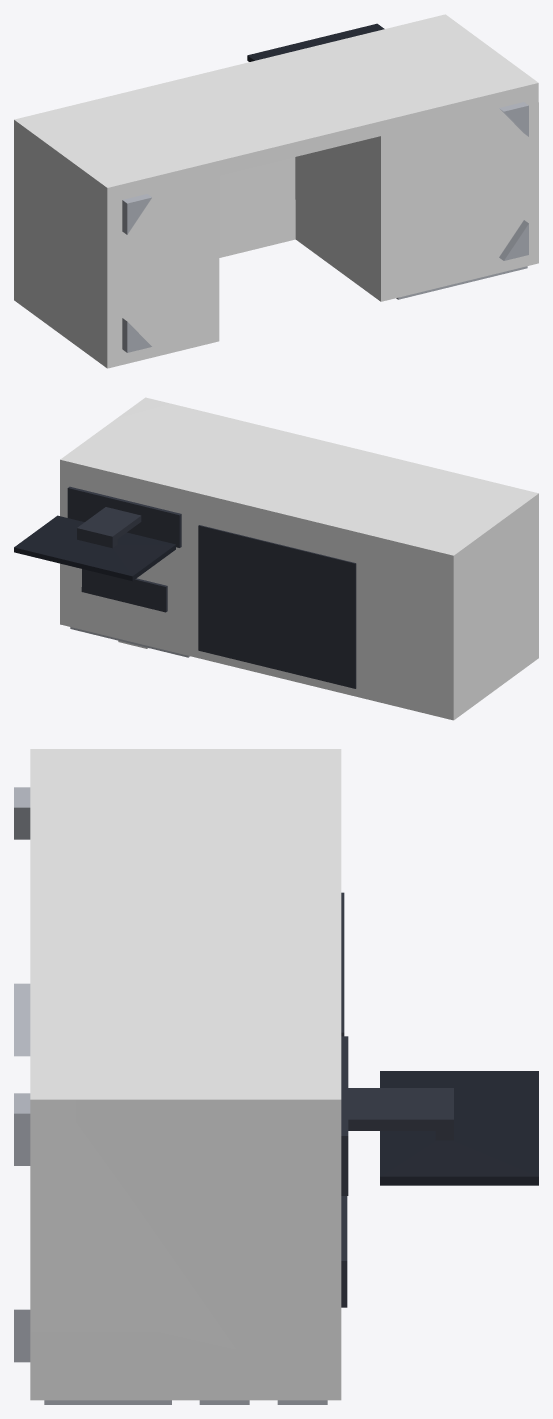
The model's file is Desk.fbx.
3 renders of one model, top to bottom at view 1: azimuth 30°, elevation 25°; view 2: azimuth 150°, elevation 25°; view 3: azimuth 270°, elevation 25°, orthographic. The views are drawn at different scales.
Parts seen in each view (by area): view 1: Desk; view 2: Desk; view 3: Desk.
Boxes of the visible parts, left/top/right/bottom form: Desk: left=14, top=14, right=538, bottom=368; Desk: left=14, top=397, right=538, bottom=720; Desk: left=14, top=749, right=538, bottom=1404.
Size of the model in its own units: 200 by 84.18 by 127.
1 material, 1 textured.
